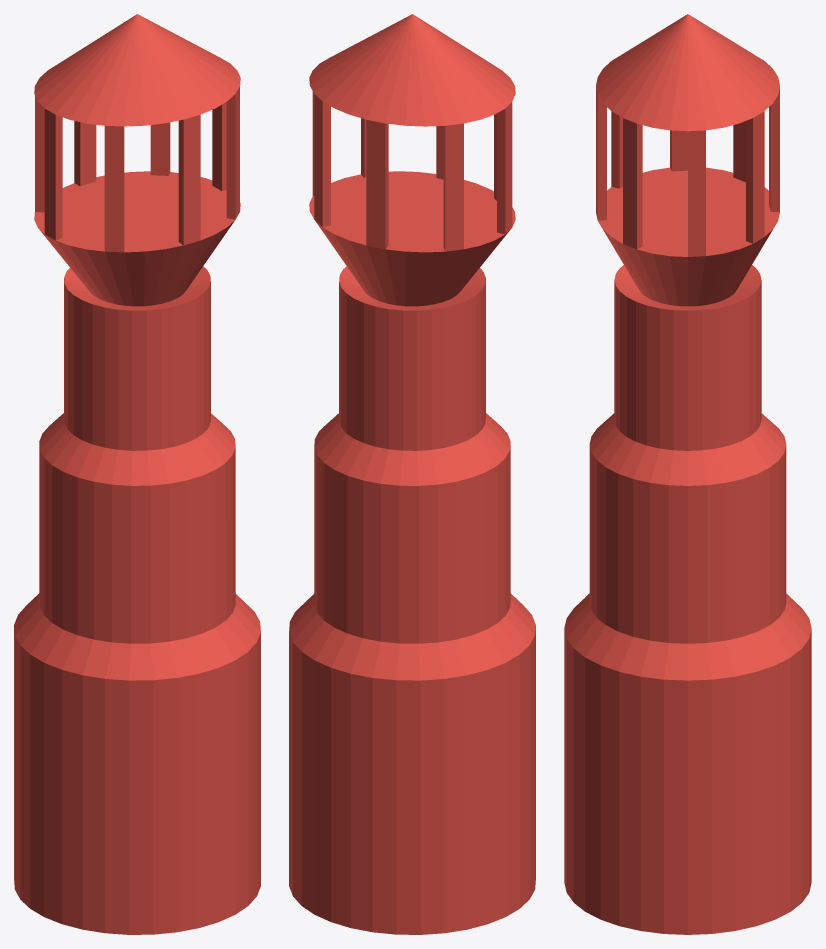
Rendered from Tower.fbx.
The picture shows the model from 3 angles, left to right: view 1: azimuth 30°, elevation 25°; view 2: azimuth 150°, elevation 25°; view 3: azimuth 270°, elevation 25°; orthographic projection.
Parts seen in each view (by area): view 1: Tour; view 2: Tour; view 3: Tour.
Part boxes in pixels (x1=…): Tour: x1=14, y1=14, x2=260, y2=934; Tour: x1=289, y1=14, x2=535, y2=934; Tour: x1=564, y1=14, x2=811, y2=934.
Bounding box in the file's own units: 50.4 × 195 × 50.4.
